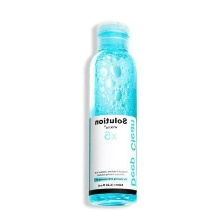cleaning_solution: (84, 19, 141, 209)
